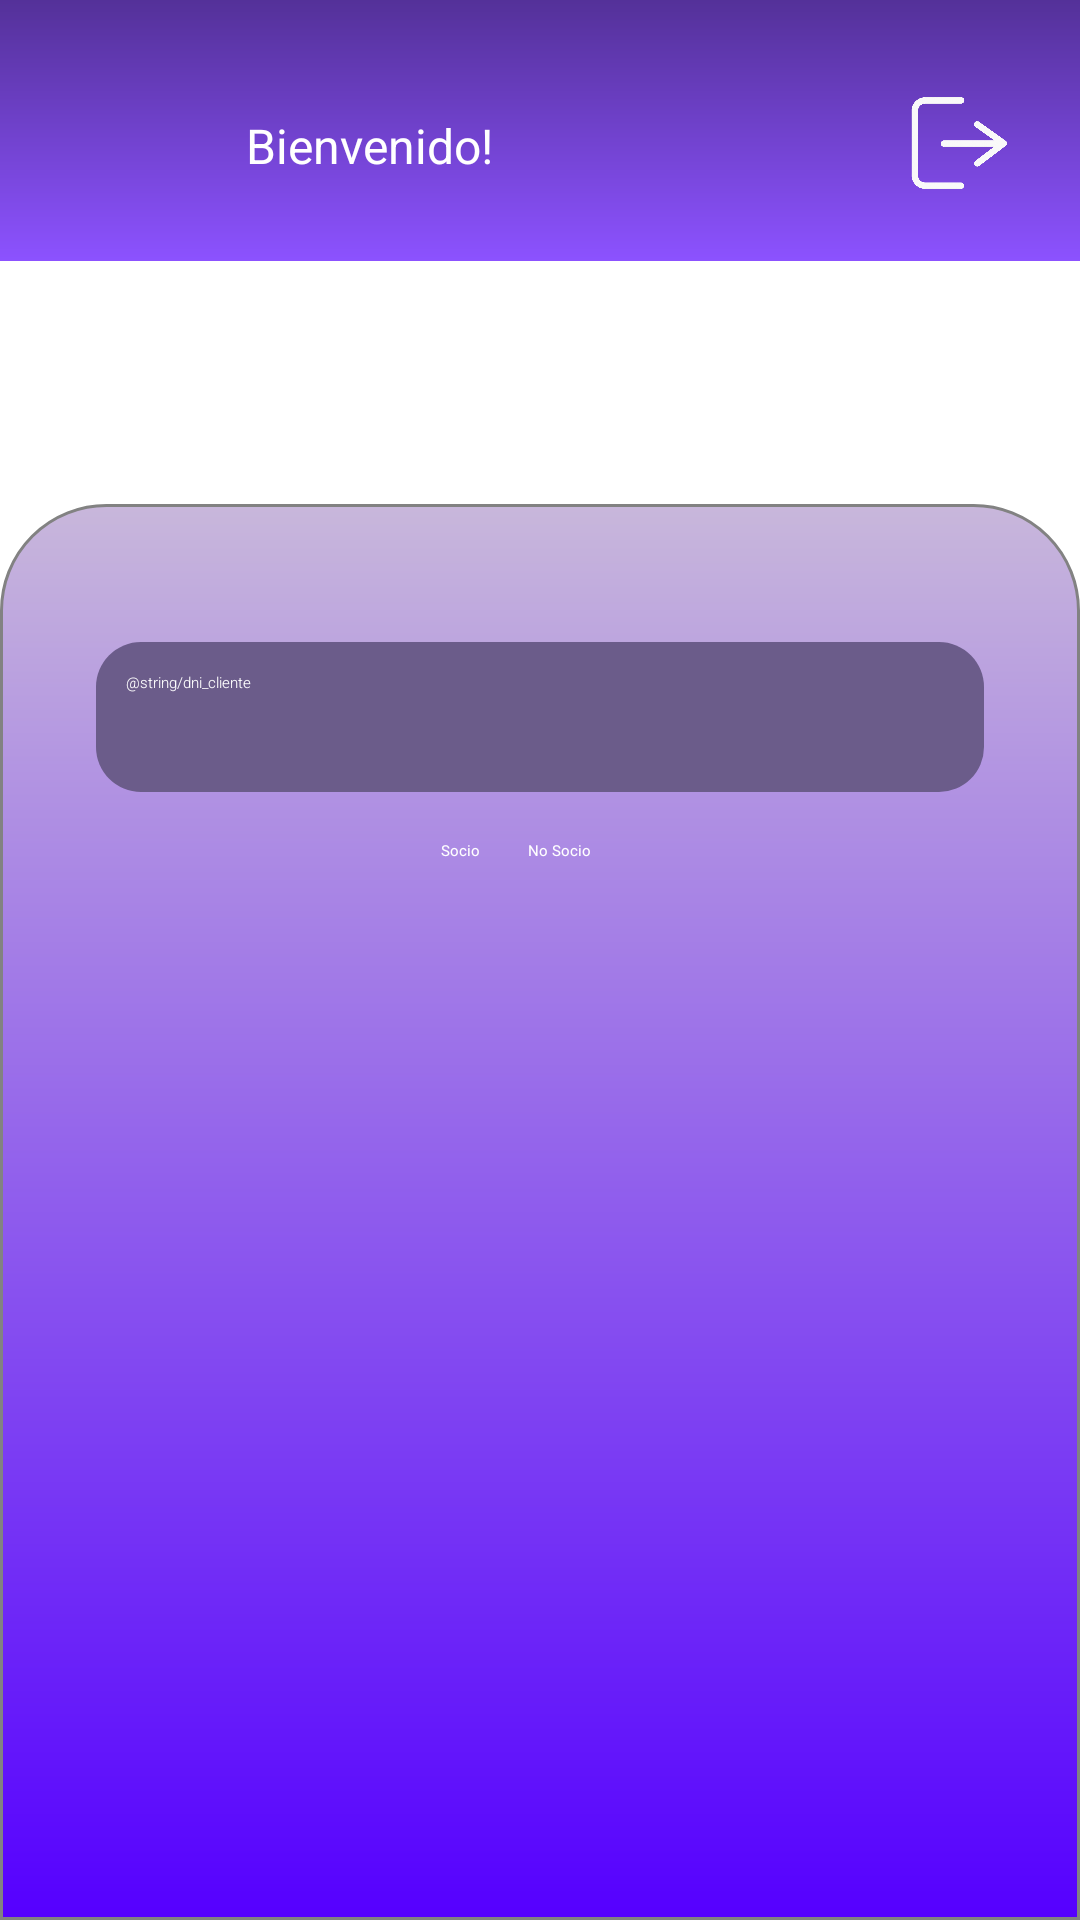

Point at icon controls on the screen. Image size 1080x1920, points as [x,y].
salir: [957,145]
